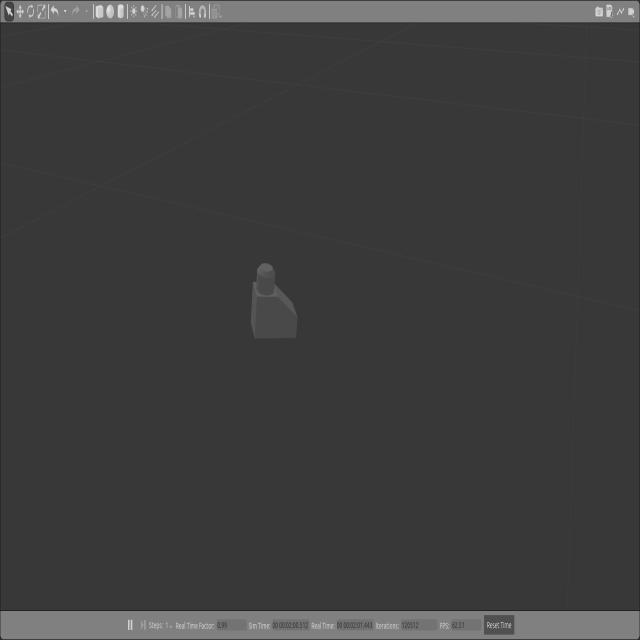block4: (251, 264, 298, 338)
